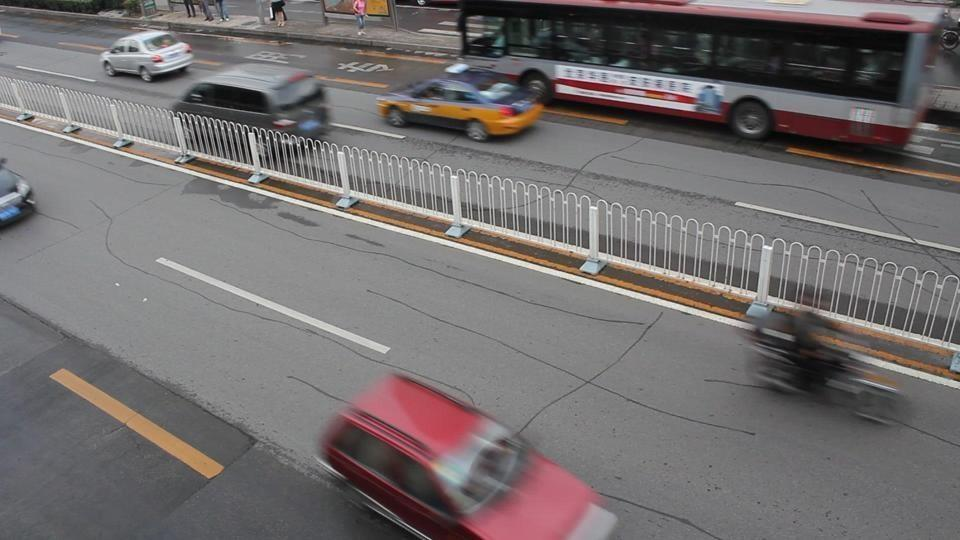car: (314, 368, 619, 538), (743, 302, 909, 426), (169, 62, 332, 138), (375, 75, 546, 142), (100, 30, 194, 82), (0, 158, 34, 229)
